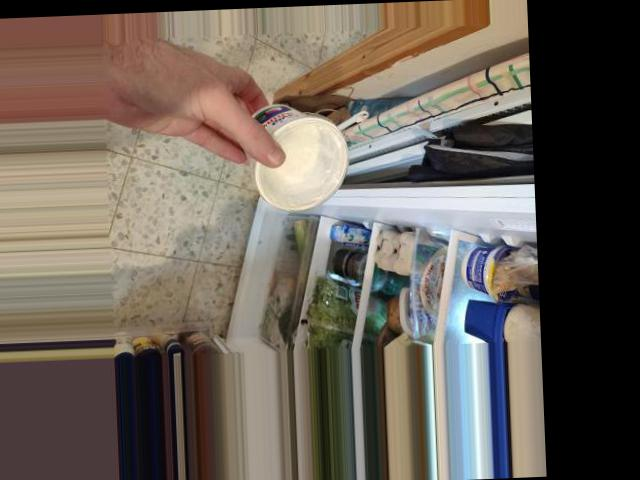cotage: (241, 93, 357, 214)
